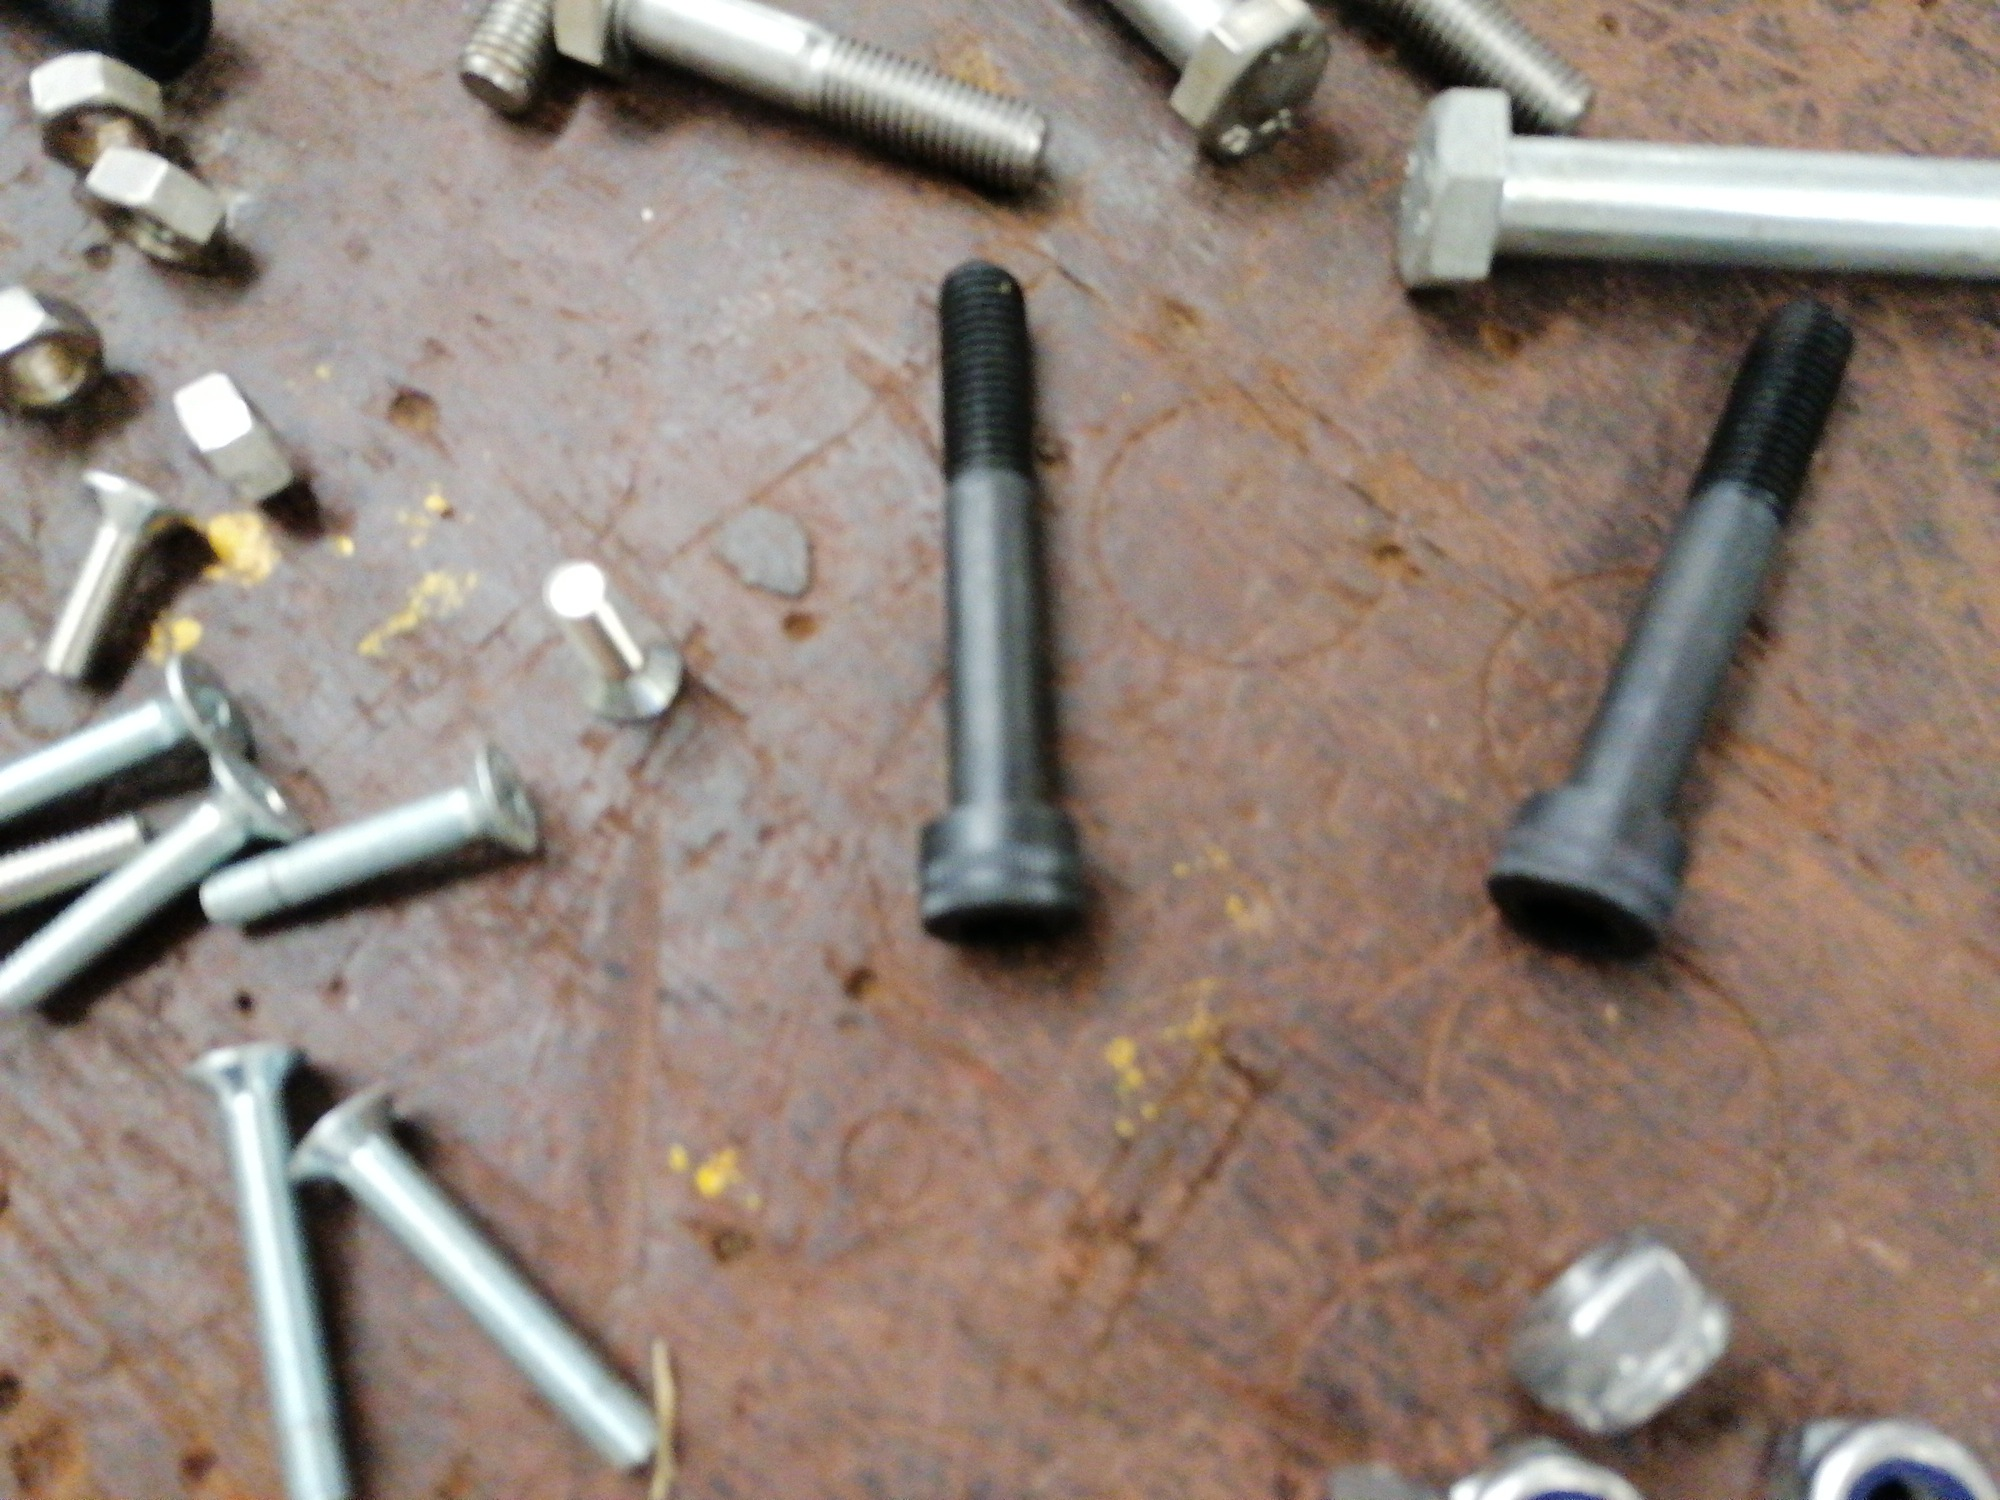bolt: (1480, 295, 1850, 969), (282, 1076, 661, 1476), (1389, 84, 2000, 299), (912, 257, 1102, 941), (546, 2, 1050, 199), (0, 744, 302, 1018), (184, 1037, 361, 1495), (198, 737, 542, 934), (2, 651, 254, 829), (1101, 0, 1331, 170), (1362, 0, 1598, 139), (43, 470, 191, 681), (539, 555, 688, 728)
nut: (1513, 1220, 1735, 1434), (1750, 1410, 1997, 1498), (77, 142, 235, 277), (24, 47, 170, 184), (172, 370, 299, 507), (0, 282, 102, 421), (1441, 1432, 1647, 1498)
